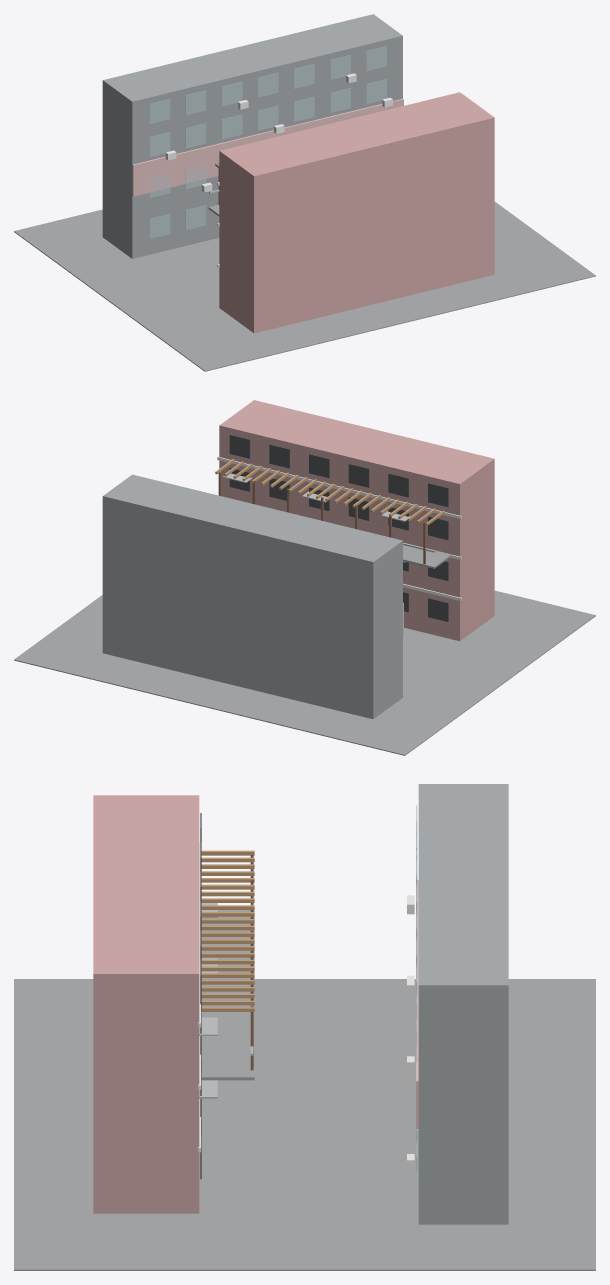
The model's file is exterior_block.glb.
3 renders of one model, top to bottom at view 1: azimuth 30°, elevation 25°; view 2: azimuth 150°, elevation 25°; view 3: azimuth 270°, elevation 25°, orthographic. The views are drawn at different scales.
Parts seen in each view (by area): view 1: EXT_PinkBlock, EXT_GrayBlock, EXT_Ground, EXT_GrayPinkBand, EXT_GrayWindow_19, EXT_GrayWindow_20, EXT_GrayWindow_26; view 2: EXT_GrayBlock, EXT_PinkBlock, EXT_Ground, EXT_BalconyFloor, EXT_PinkBand_79; view 3: EXT_Ground, EXT_PinkBlock, EXT_GrayBlock, EXT_BalconyFloor, EXT_GrayPinkBand.
Part boxes in pixels (box(x1,y1,x2,y2)): EXT_PinkBlock: box(219, 92, 494, 333); EXT_GrayBlock: box(102, 14, 402, 258); EXT_Ground: box(14, 201, 595, 371); EXT_GrayPinkBand: box(132, 98, 403, 196); EXT_GrayWindow_19: box(293, 97, 315, 121); EXT_GrayWindow_20: box(329, 88, 351, 112); EXT_GrayWindow_26: box(293, 63, 315, 88); EXT_GrayBlock: box(102, 474, 402, 719); EXT_PinkBlock: box(219, 400, 494, 641); EXT_Ground: box(14, 590, 595, 755); EXT_BalconyFloor: box(403, 545, 451, 568); EXT_PinkBand_79: box(217, 456, 461, 519); EXT_Ground: box(14, 979, 595, 1270); EXT_PinkBlock: box(93, 795, 199, 1213); EXT_GrayBlock: box(418, 784, 508, 1224); EXT_BalconyFloor: box(201, 910, 254, 1080); EXT_GrayPinkBand: box(416, 880, 418, 1128).
Bounding box in the file's own units: 26 × 10.05 × 22.
